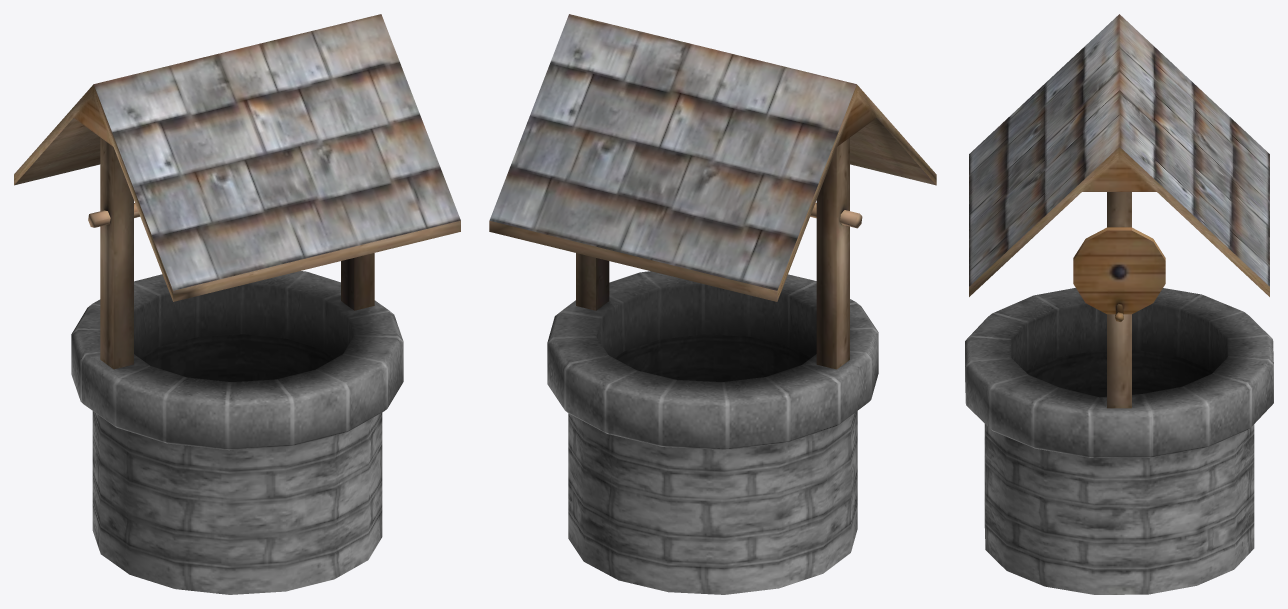
The model's file is Well_Covered.glb.
3 views of the same model, side by side, from view 1: azimuth 30°, elevation 25°; view 2: azimuth 150°, elevation 25°; view 3: azimuth 270°, elevation 25° (orthographic). The views are drawn at different scales.
Visible parts, largest first — view 1: well.covered; view 2: well.covered; view 3: well.covered.
Boxes of the visible parts, x1,y1,x2,y2 form: well.covered: (14, 14, 460, 594); well.covered: (489, 14, 936, 594); well.covered: (965, 14, 1273, 594).
Bounding box in the file's own units: 1.53 × 2.3 × 1.41.
1 material, 1 textured.
